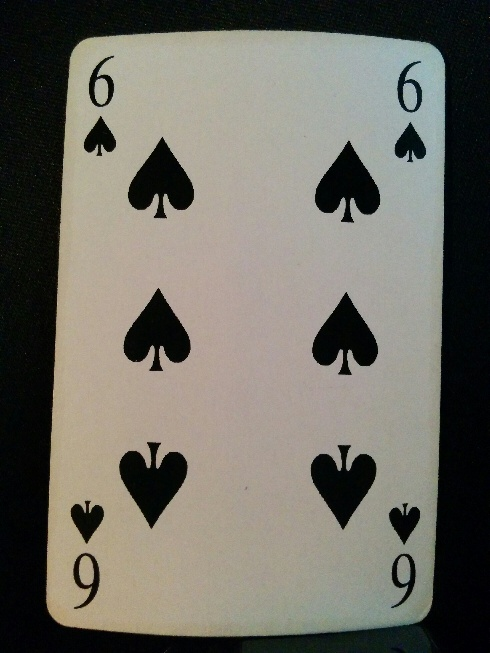S6: (63, 494, 111, 612), (381, 499, 425, 612), (389, 54, 429, 168), (83, 49, 119, 161)
